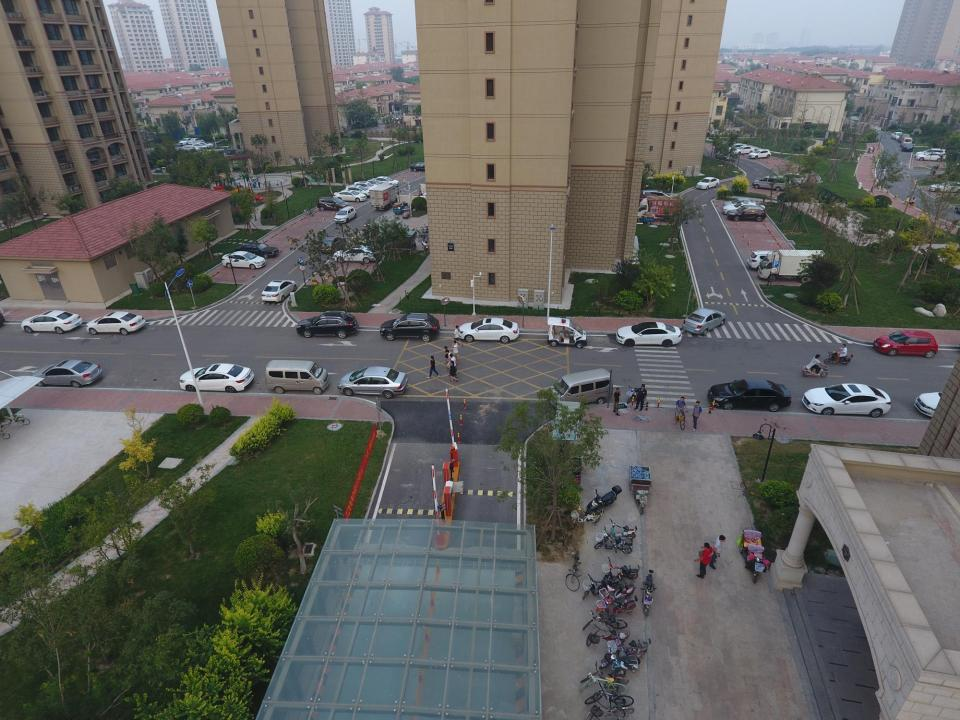car: (804, 382, 892, 416), (709, 379, 791, 410), (339, 365, 406, 396), (179, 363, 253, 391), (32, 358, 99, 386), (379, 312, 442, 340), (456, 317, 520, 343), (874, 330, 937, 356), (617, 322, 682, 346), (296, 311, 358, 336), (915, 388, 960, 420), (87, 311, 144, 334), (24, 310, 82, 330), (682, 307, 725, 330), (222, 250, 264, 270), (749, 248, 791, 268), (235, 239, 278, 258), (263, 279, 297, 302), (335, 247, 380, 264), (728, 205, 766, 221), (334, 187, 368, 202), (724, 200, 766, 212), (344, 181, 375, 197), (321, 235, 347, 254), (317, 196, 349, 211), (930, 179, 960, 194), (373, 173, 402, 187), (918, 150, 951, 162), (697, 175, 721, 191), (335, 206, 357, 223), (354, 178, 381, 191), (725, 197, 760, 207), (916, 146, 950, 156), (779, 171, 807, 182), (367, 176, 389, 188), (410, 162, 436, 172), (715, 149, 733, 162), (750, 149, 772, 159), (727, 142, 749, 150), (736, 145, 756, 153), (904, 140, 914, 152), (892, 130, 902, 140)
truck: (637, 197, 683, 219)
van: (551, 368, 612, 404), (267, 360, 331, 394), (760, 248, 828, 280), (373, 180, 400, 207), (754, 175, 789, 192), (638, 187, 675, 203), (901, 136, 913, 147), (900, 134, 912, 142)
